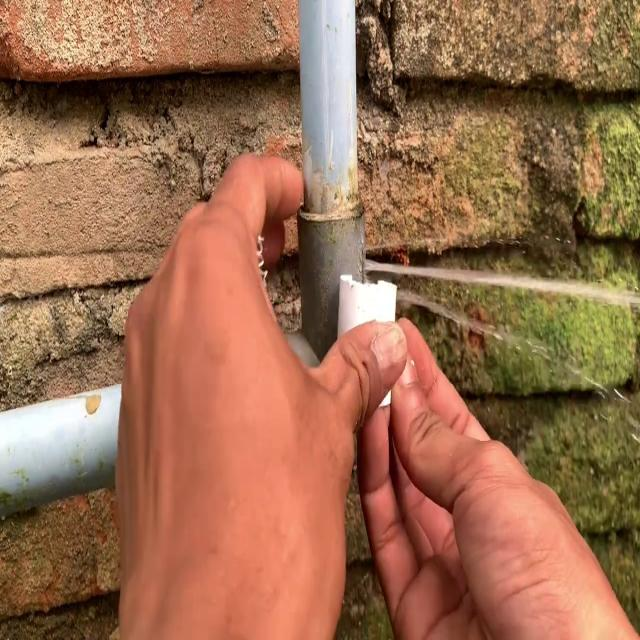leak: (364, 249, 640, 430)
